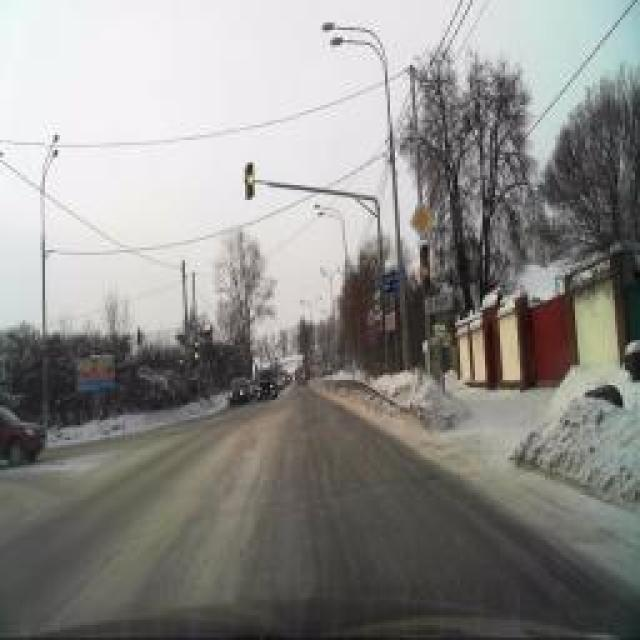sign: (368, 326, 378, 344), (366, 310, 376, 325)
